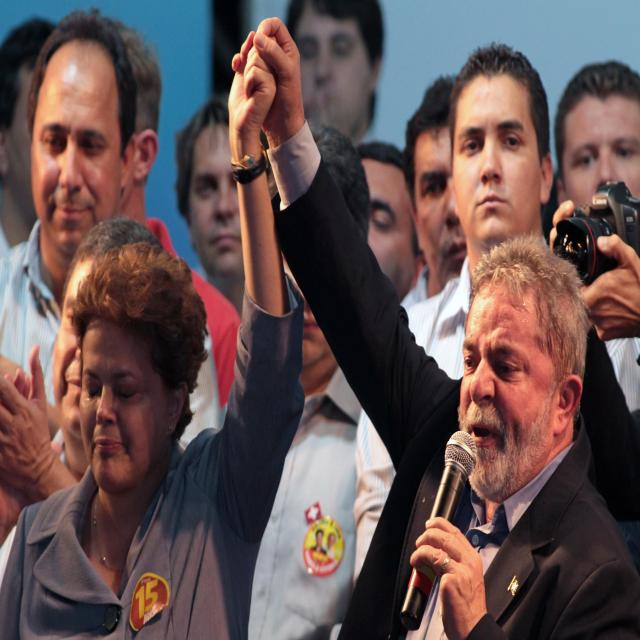body: (233, 6, 640, 640), (0, 28, 308, 640), (348, 69, 593, 639), (352, 39, 558, 595), (0, 8, 220, 461), (222, 120, 374, 638), (103, 14, 244, 461), (1, 218, 170, 549), (539, 58, 640, 581), (173, 98, 246, 325), (550, 186, 640, 335), (0, 23, 59, 232), (355, 141, 425, 305), (284, 8, 386, 115)
